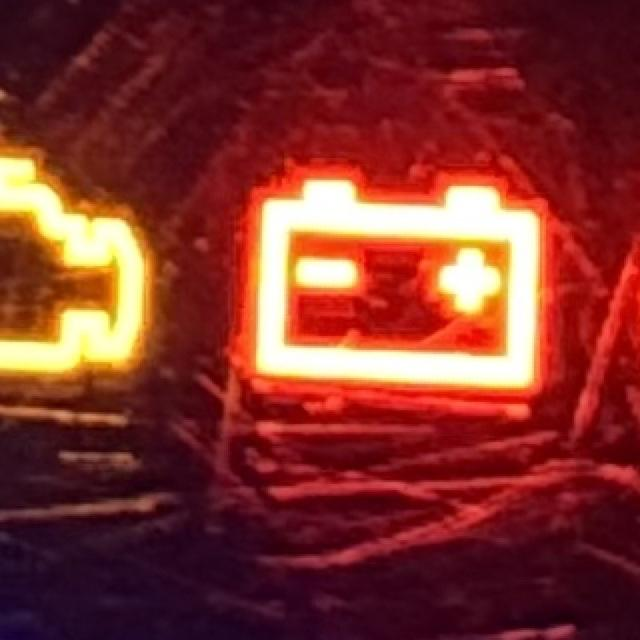Battery Issue: (247, 172, 552, 395)
